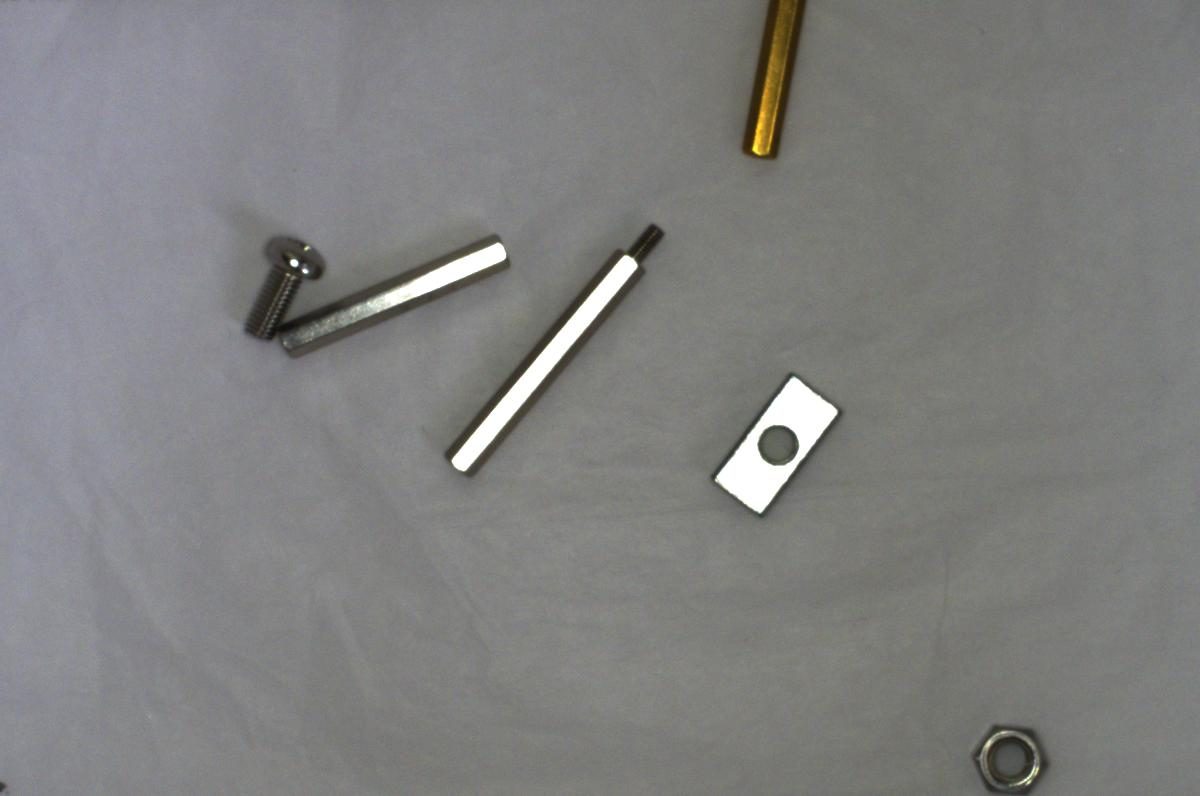Double hexagonal column: (278, 229, 507, 359)
Hexagon nut: (946, 707, 1059, 795)
Hexagon pillar: (738, 1, 812, 167)
Hexagonal steel column: (442, 215, 666, 479)
Rectangular nut: (697, 372, 846, 525)
Round head screw: (234, 233, 327, 346)
